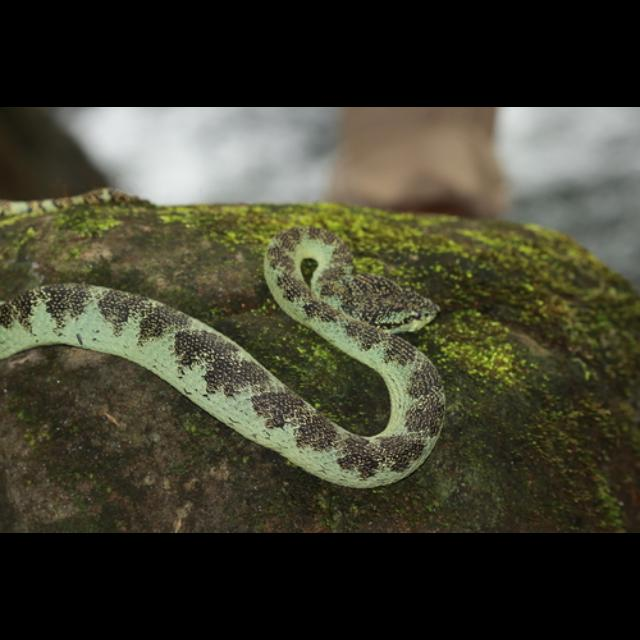snake: (1, 225, 450, 498)
